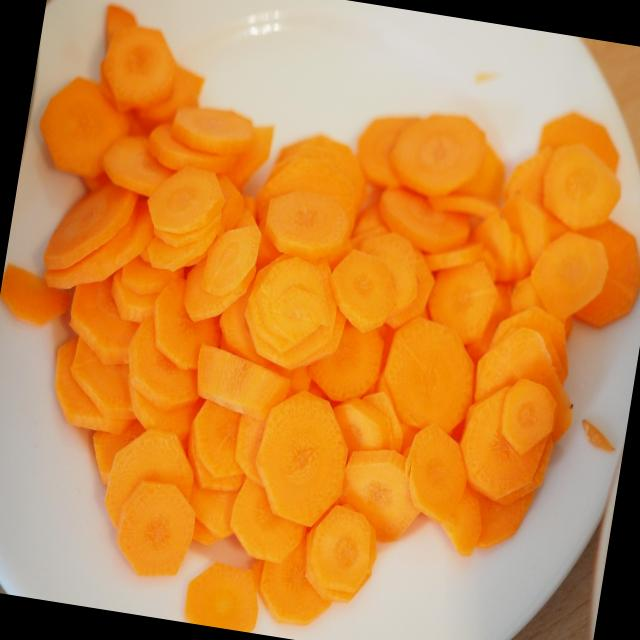ca rot: (0, 6, 640, 632)
